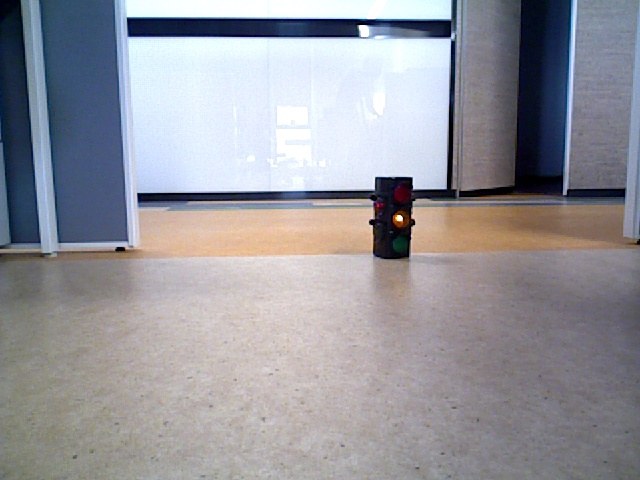yellow: (377, 181, 406, 254)
